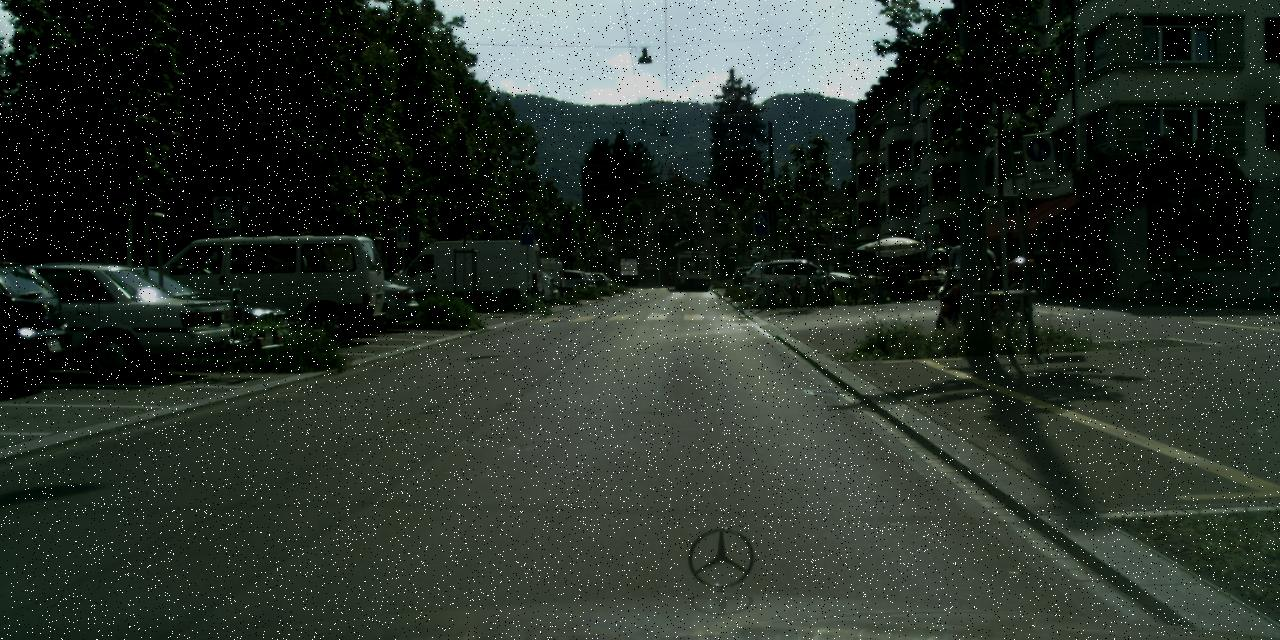ped: (954, 231, 993, 328)
